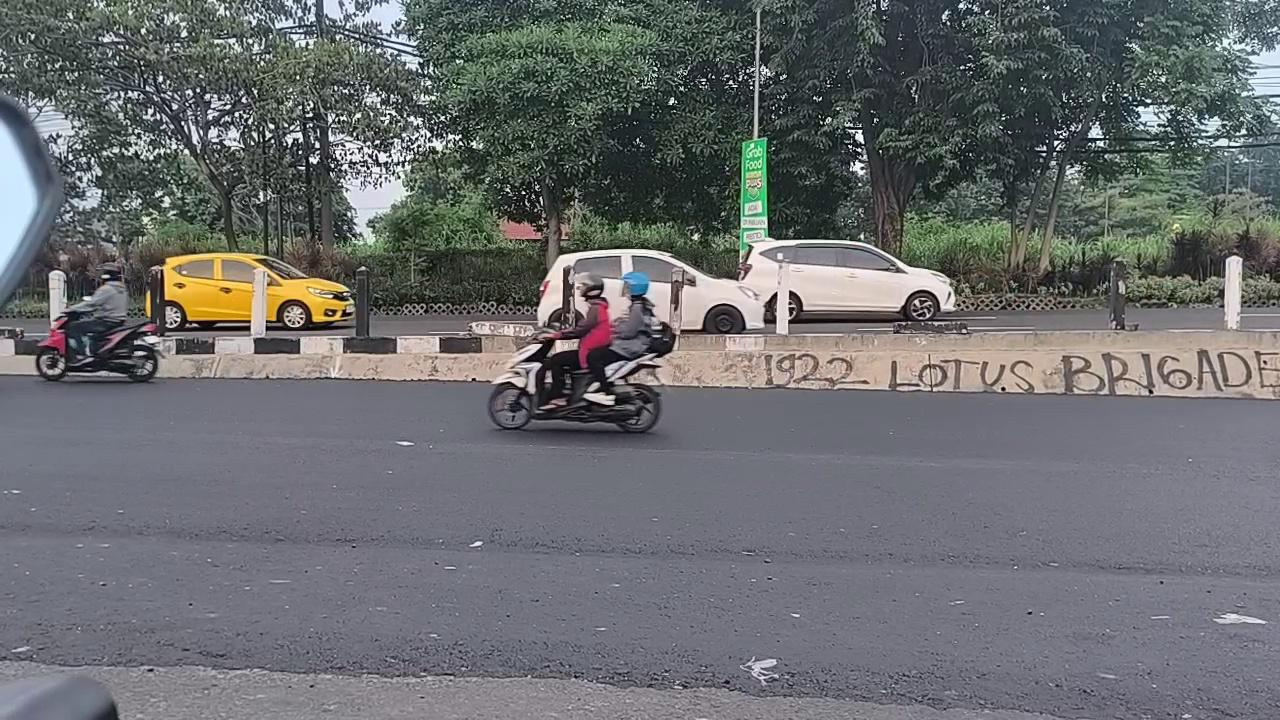Helmet: (536, 273, 611, 410), (586, 271, 657, 403), (67, 262, 127, 364)
Motor: (488, 333, 665, 432), (35, 308, 160, 381)
